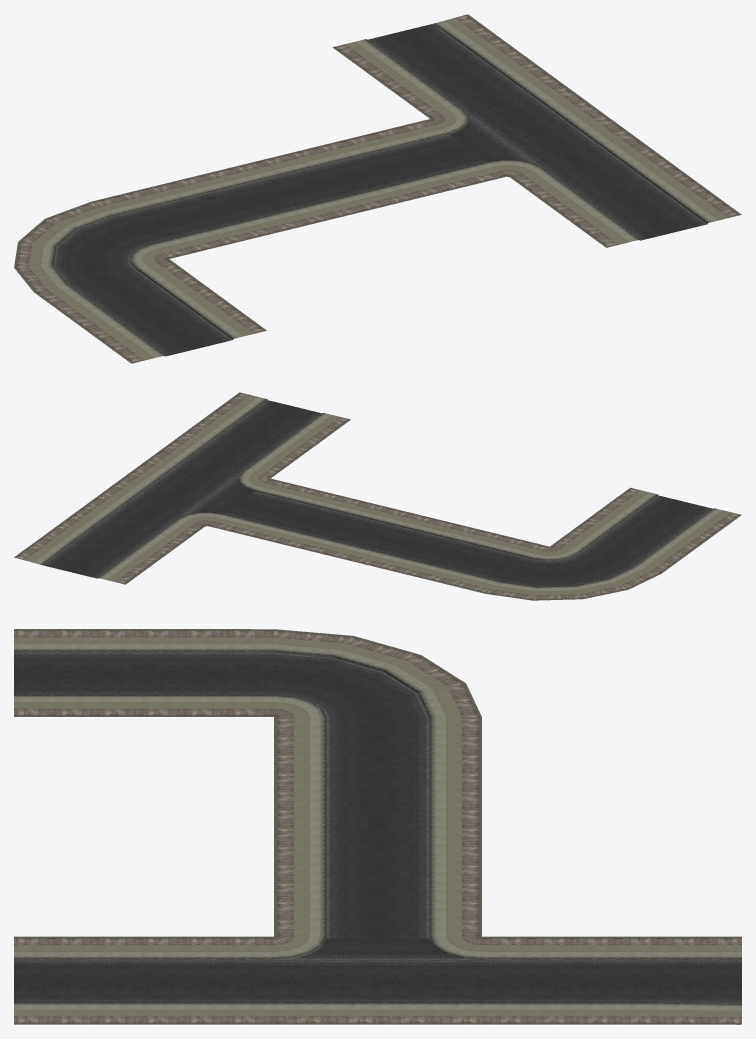
The model's file is cuntsrod11.obj.
The picture shows the model from 3 angles, top to bottom: view 1: azimuth 30°, elevation 25°; view 2: azimuth 150°, elevation 25°; view 3: azimuth 270°, elevation 25°; orthographic projection. The views are drawn at different scales.
Parts seen in each view (by area): view 1: cuntsrod11; view 2: cuntsrod11; view 3: cuntsrod11.
Boxes of the visible parts, x1,y1,x2,y2 form: cuntsrod11: (14, 14, 741, 363); cuntsrod11: (14, 392, 741, 600); cuntsrod11: (14, 629, 741, 1024).
Bounding box in the file's own units: 90.02 × 0.1646 × 70.
3 materials, 3 textured.
